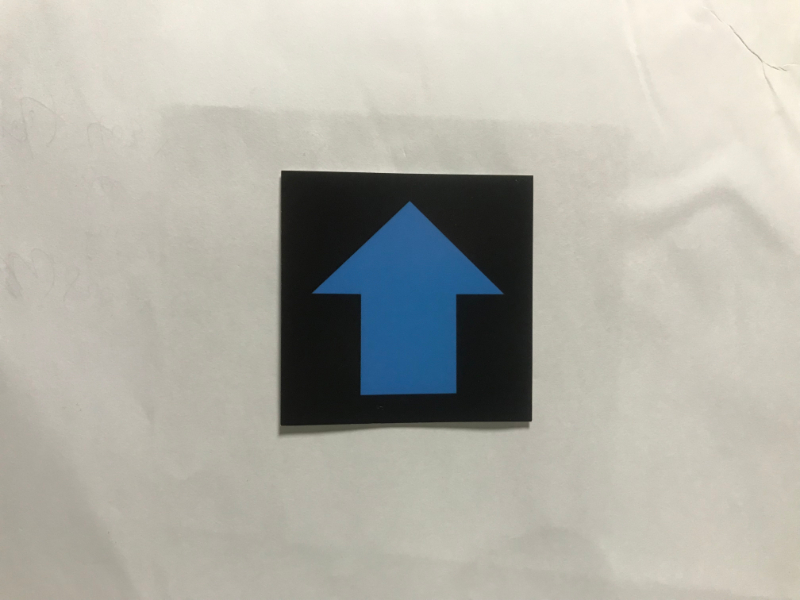LA-4: (289, 179, 525, 416)
